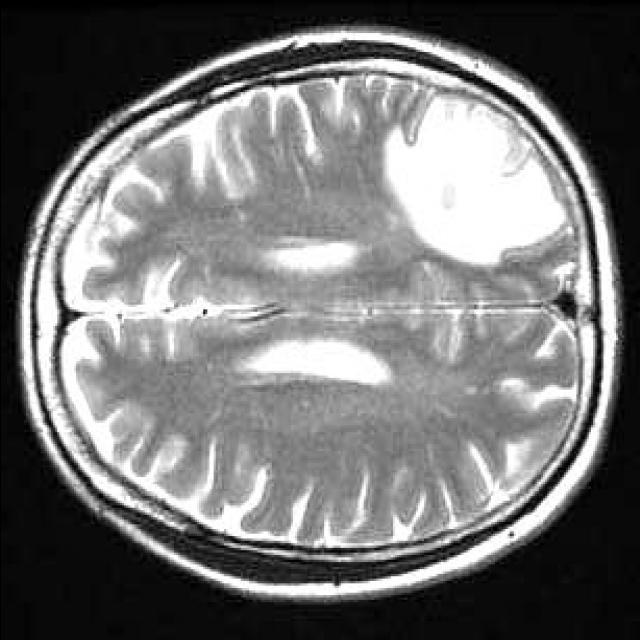tumor: (379, 90, 563, 272)
